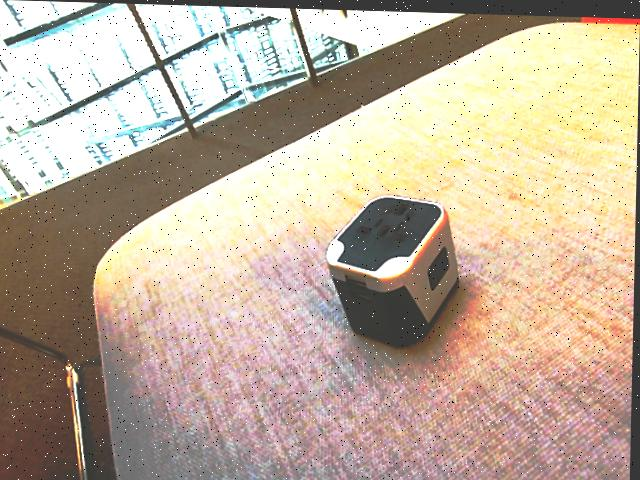adapter: (325, 190, 462, 346)
